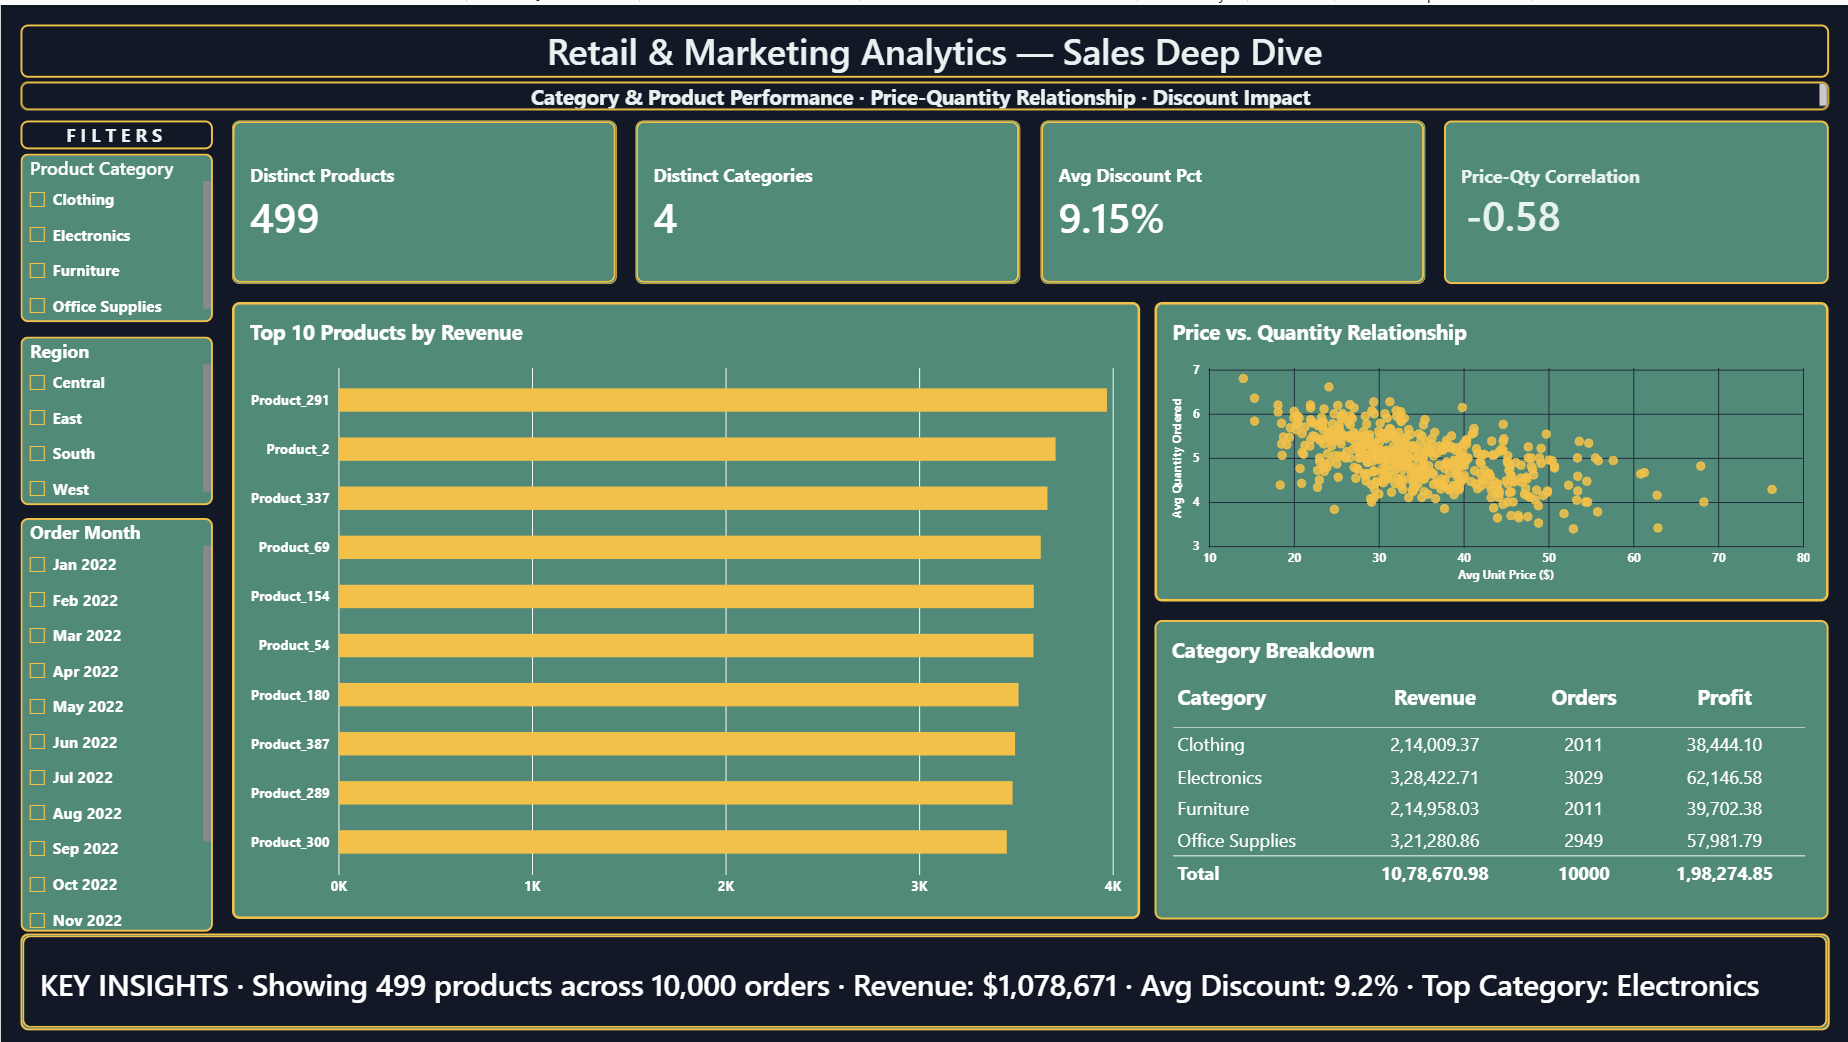

This screenshot's page, from the dashboard's own definition file:
{"tool":"powerbi","page":{"name":"Sales Deep Dive","canvas":[1920,1080],"ordinal":2},"visuals":[{"type":"textbox","box":[20,20,1880,55],"z":0},{"type":"textbox","box":[20,80,1880,30],"z":1000},{"type":"cardVisual","fields":{"Data":["cleaned_retail_sales.Distinct Products"]},"box":[240,120,400,170],"z":2000},{"type":"cardVisual","fields":{"Data":["cleaned_retail_sales.Distinct Categories"]},"box":[660,120,400,170],"z":3000},{"type":"cardVisual","fields":{"Data":["cleaned_retail_sales.Avg Discount Pct"]},"box":[1080,120,400,170],"z":4000},{"type":"textbox","box":[1500,120,400,170],"z":5000},{"type":"clusteredBarChart","title":"Top 10 Products by Revenue","fields":{"Category":["cleaned_retail_sales.Product_Name"],"Y":["Sum(cleaned_retail_sales.Sales_Capped)"]},"box":[239.9,309.4,943.8,641.4],"z":6000},{"type":"tableEx","title":"Category Breakdown","fields":{"Values":["cleaned_retail_sales.Product_Category","Sum(cleaned_retail_sales.Sales_Capped)","cleaned_retail_sales.Order_ID","Sum(cleaned_retail_sales.Profit_Capped)"]},"box":[1199.3,639.6,700.5,311.1],"z":7000},{"type":"cardVisual","fields":{"Data":["cleaned_retail_sales.Dynamic Sales Insight"]},"box":[20.9,964.6,1880.6,100.8],"z":8000},{"type":"scatterChart","title":"Price vs. Quantity Relationship","fields":{"Category":["cleaned_retail_sales.Product_Name"],"X":["Avg(cleaned_retail_sales.Unit_Price)"],"Y":["Avg(cleaned_retail_sales.Quantity)"]},"box":[1199.3,309.4,700.5,311.1],"z":9000},{"type":"textbox","box":[20,120,200,30],"z":10000},{"type":"slicer","fields":{"Values":["cleaned_retail_sales.Product_Category"]},"box":[20,155,200,175],"z":11000},{"type":"slicer","fields":{"Values":["cleaned_retail_sales.Region"]},"box":[20,345,200,175],"z":12000},{"type":"slicer","fields":{"Values":["cleaned_retail_sales.Order_Month_Label"]},"box":[20.9,533.6,200,430],"z":13000}]}

Visuals, with their boxes in screenshot pixels (x1, y1, x2, y2), scaled from the page's 1920x1080 canvas onto the 1848x1042 screenshot:
textbox: select_region(19, 19, 1829, 72)
textbox: select_region(19, 77, 1829, 106)
cardVisual - cleaned_retail_sales.Distinct Products: select_region(231, 116, 616, 280)
cardVisual - cleaned_retail_sales.Distinct Categories: select_region(635, 116, 1020, 280)
cardVisual - cleaned_retail_sales.Avg Discount Pct: select_region(1040, 116, 1424, 280)
textbox: select_region(1444, 116, 1829, 280)
"Top 10 Products by Revenue" clusteredBarChart: select_region(231, 299, 1139, 917)
"Category Breakdown" tableEx: select_region(1154, 617, 1829, 917)
cardVisual - cleaned_retail_sales.Dynamic Sales Insight: select_region(20, 931, 1830, 1028)
"Price vs. Quantity Relationship" scatterChart: select_region(1154, 299, 1829, 599)
textbox: select_region(19, 116, 212, 145)
slicer - cleaned_retail_sales.Product_Category: select_region(19, 150, 212, 318)
slicer - cleaned_retail_sales.Region: select_region(19, 333, 212, 502)
slicer - cleaned_retail_sales.Order_Month_Label: select_region(20, 515, 213, 930)
